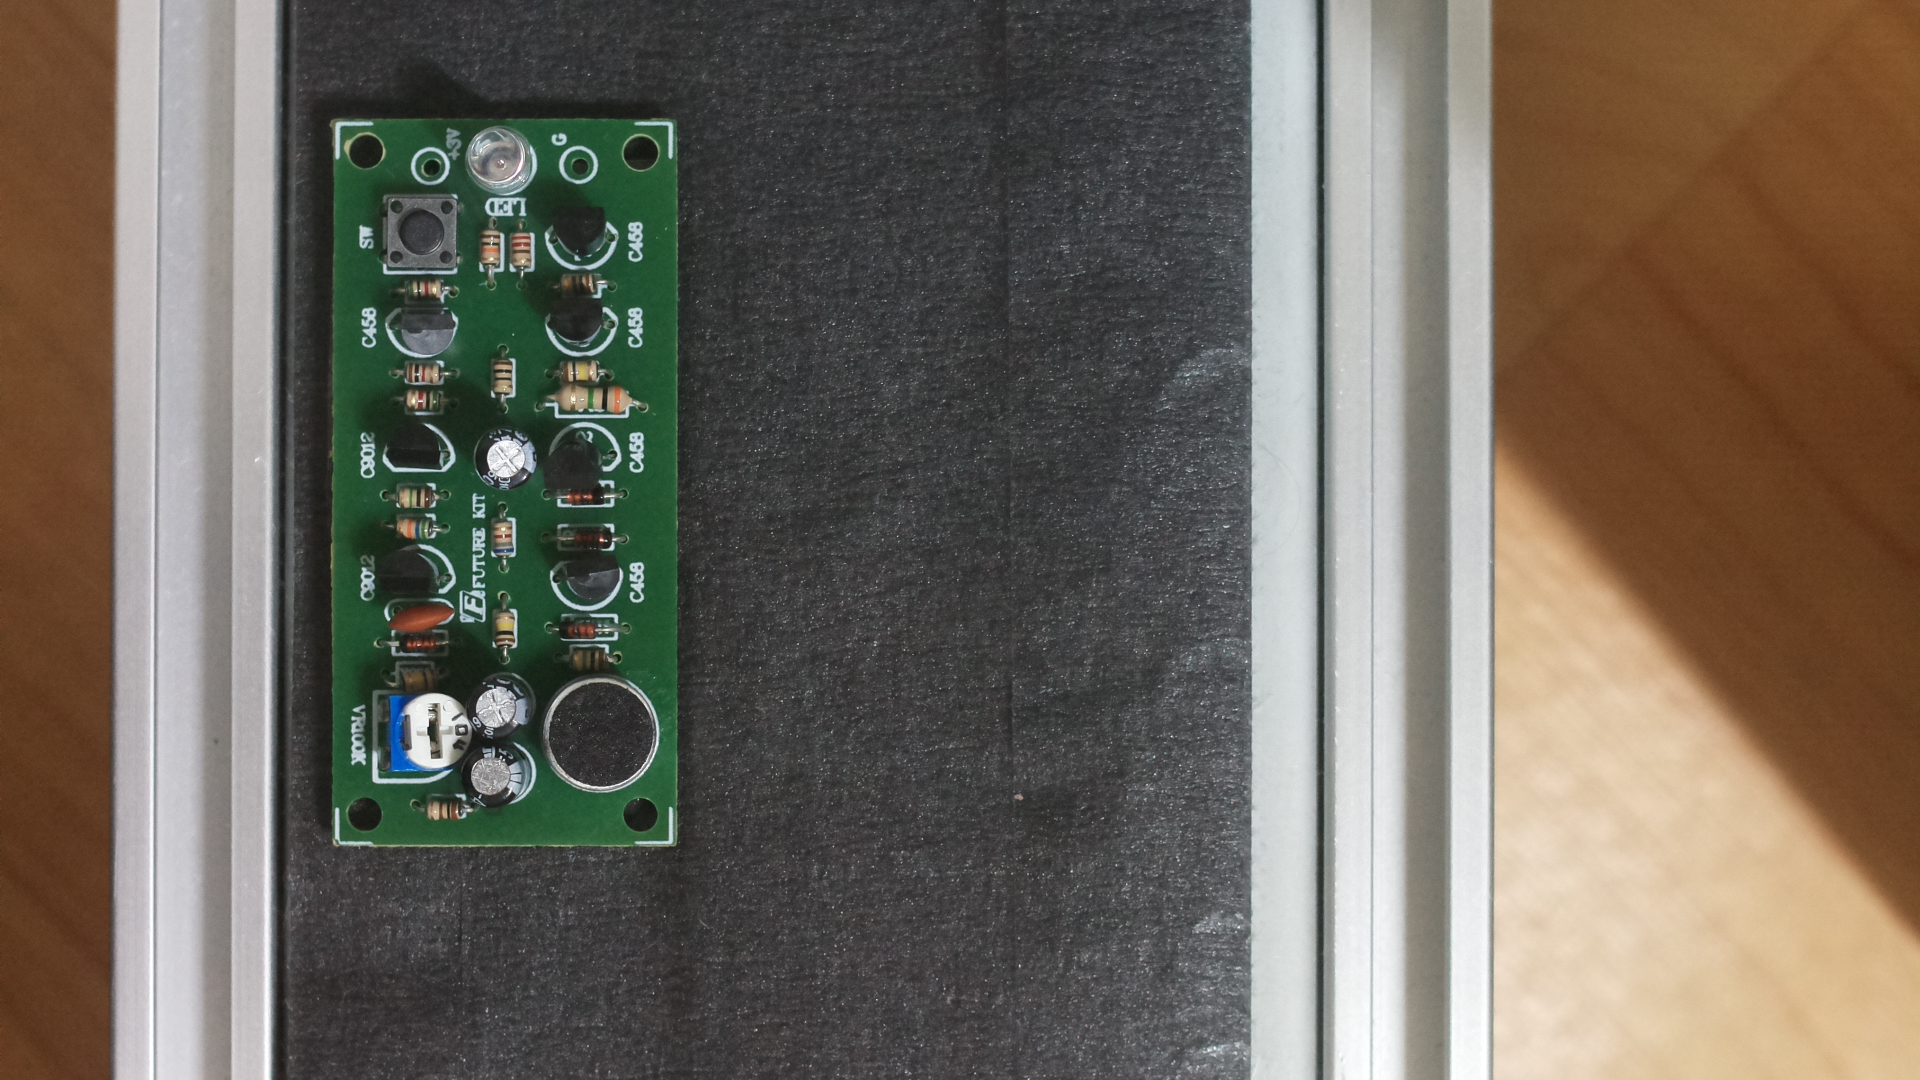A_Normal: (326, 100, 699, 866)
